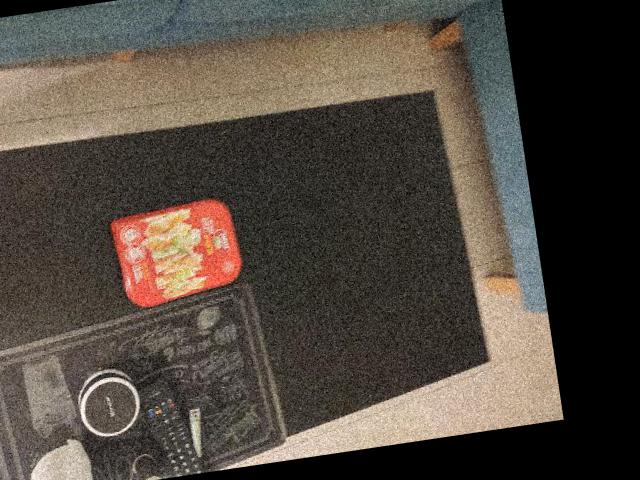cheese: (95, 193, 246, 308)
